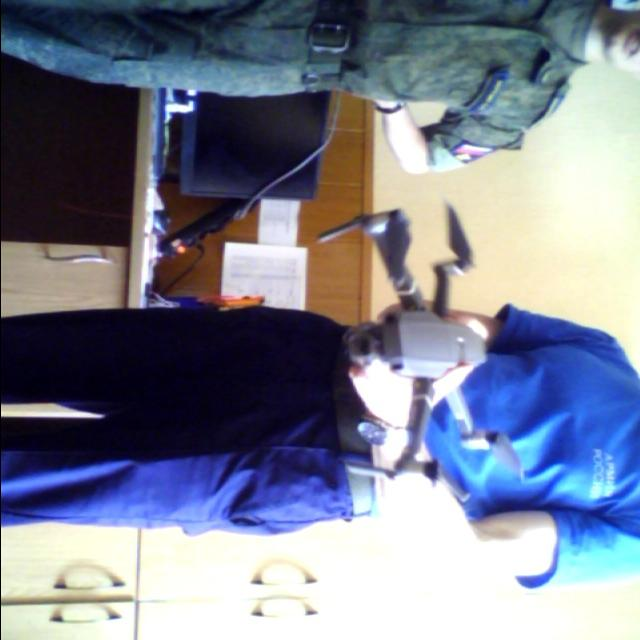drone: (310, 204, 525, 506)
